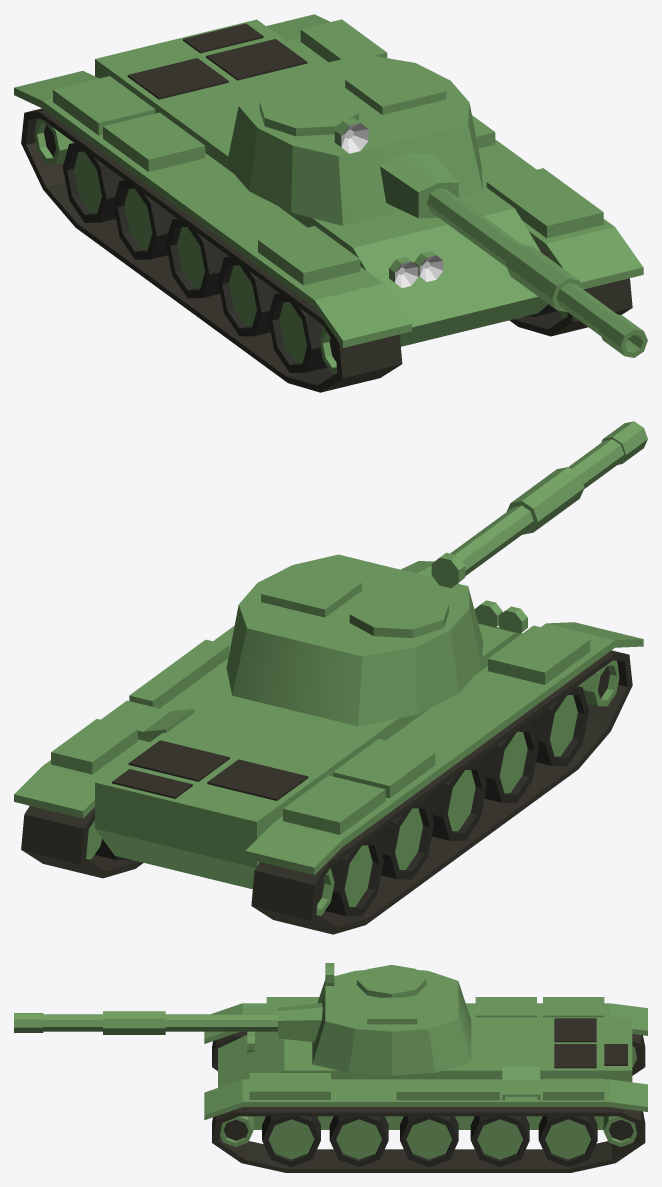
Rendered from tank6.fbx.
3 views of the same model, one above another, from view 1: azimuth 30°, elevation 25°; view 2: azimuth 150°, elevation 25°; view 3: azimuth 270°, elevation 25° (orthographic). The views are drawn at different scales.
Visible parts, largest first — view 1: Tank, Turret; view 2: Tank, Turret; view 3: Tank, Turret.
Part boxes in pixels (x1=…): Tank: x1=14, y1=14, x2=643, y2=392; Turret: x1=226, y1=54, x2=647, y2=357; Tank: x1=14, y1=600, x2=643, y2=934; Turret: x1=226, y1=421, x2=647, y2=726; Tank: x1=204, y1=997, x2=647, y2=1172; Turret: x1=14, y1=963, x2=471, y2=1075.
Bounding box in the file's own units: 3.66 × 2.49 × 9.92.
